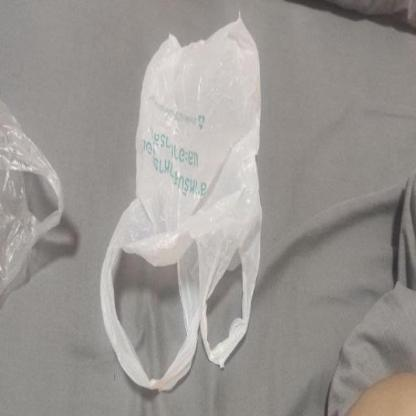Plastic Bag: (106, 15, 268, 393)
